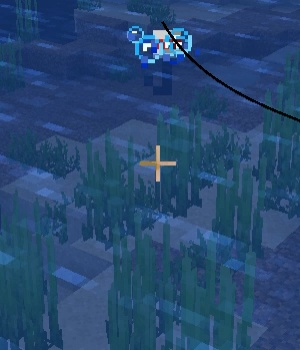up: (144, 25, 183, 95)
